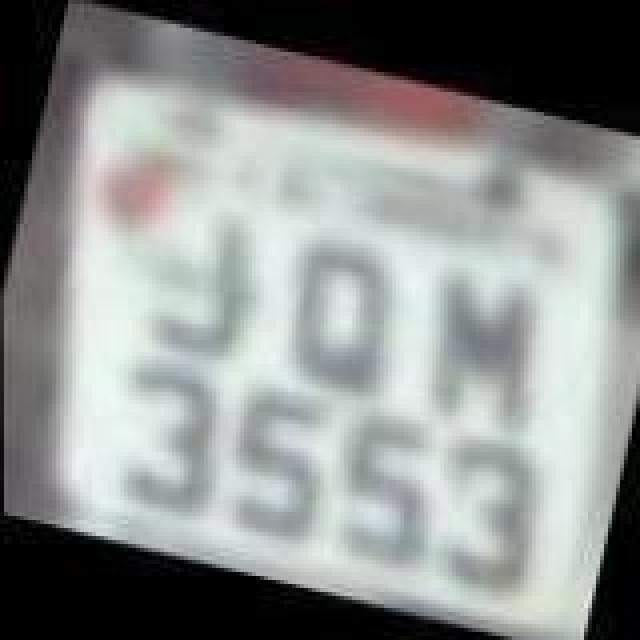3: (416, 426, 556, 602), (96, 350, 236, 518)
5: (206, 378, 342, 550), (320, 408, 452, 576)
J: (140, 192, 272, 364)
M: (410, 258, 554, 426)
Q: (266, 228, 410, 404)
